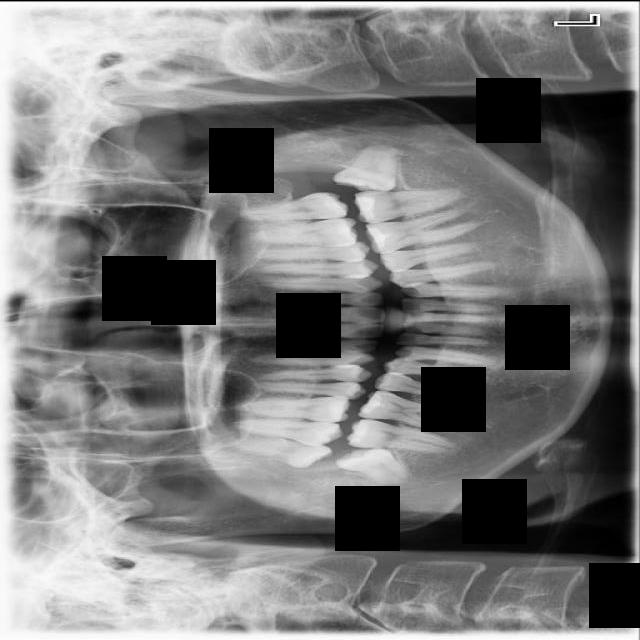3M ESPE Implant: (218, 428, 336, 473)
52: (355, 380, 404, 431), (361, 213, 408, 258), (351, 185, 399, 226), (306, 394, 351, 422)
73: (544, 26, 572, 57)
BioHorizons Implant: (225, 190, 349, 222)
Biomet 3i Implant: (331, 137, 402, 196)
Blue Sky Bio Implant: (351, 185, 465, 223)
Caries: (225, 418, 345, 446)
Implant: (345, 416, 457, 453)
Keystone Dental Implant: (333, 432, 418, 492)
